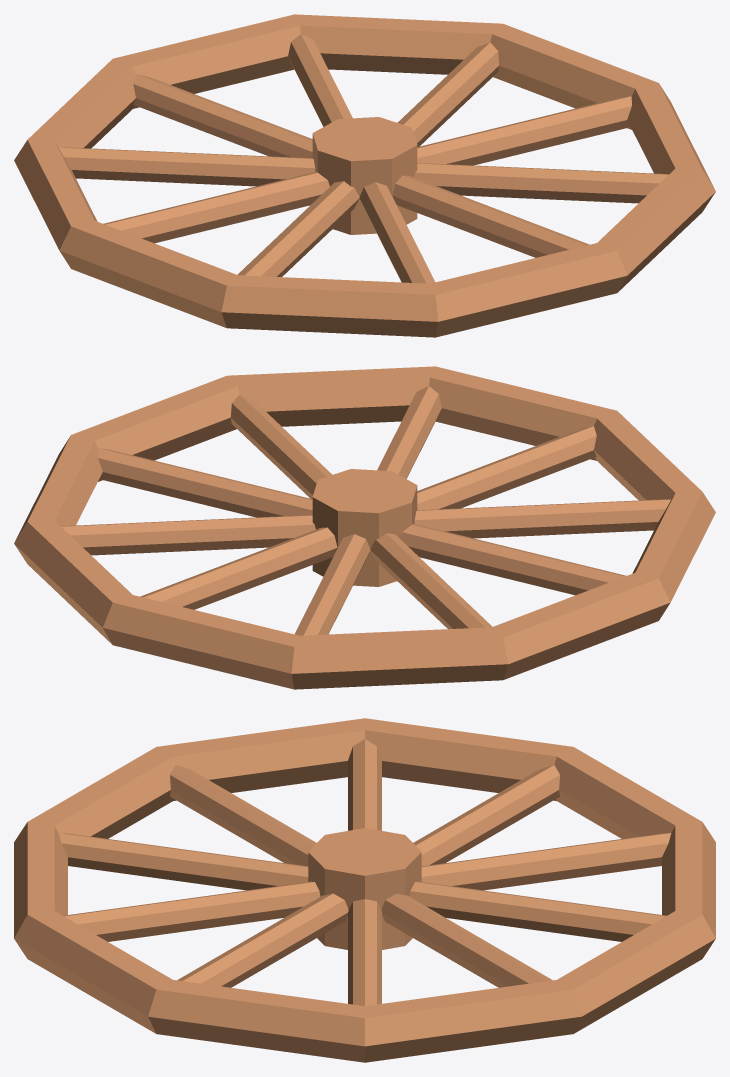
The model's file is wheel.fbx.
3 views of the same model, one above another, from view 1: azimuth 30°, elevation 25°; view 2: azimuth 150°, elevation 25°; view 3: azimuth 270°, elevation 25° (orthographic). The views are drawn at different scales.
Parts seen in each view (by area): view 1: wheel; view 2: wheel; view 3: wheel.
Boxes of the visible parts, <box> form: wheel: <box>14,14,715,337</box>; wheel: <box>14,366,715,689</box>; wheel: <box>14,718,715,1062</box>.
Size of the model in its own units: 130 by 15 by 124.
